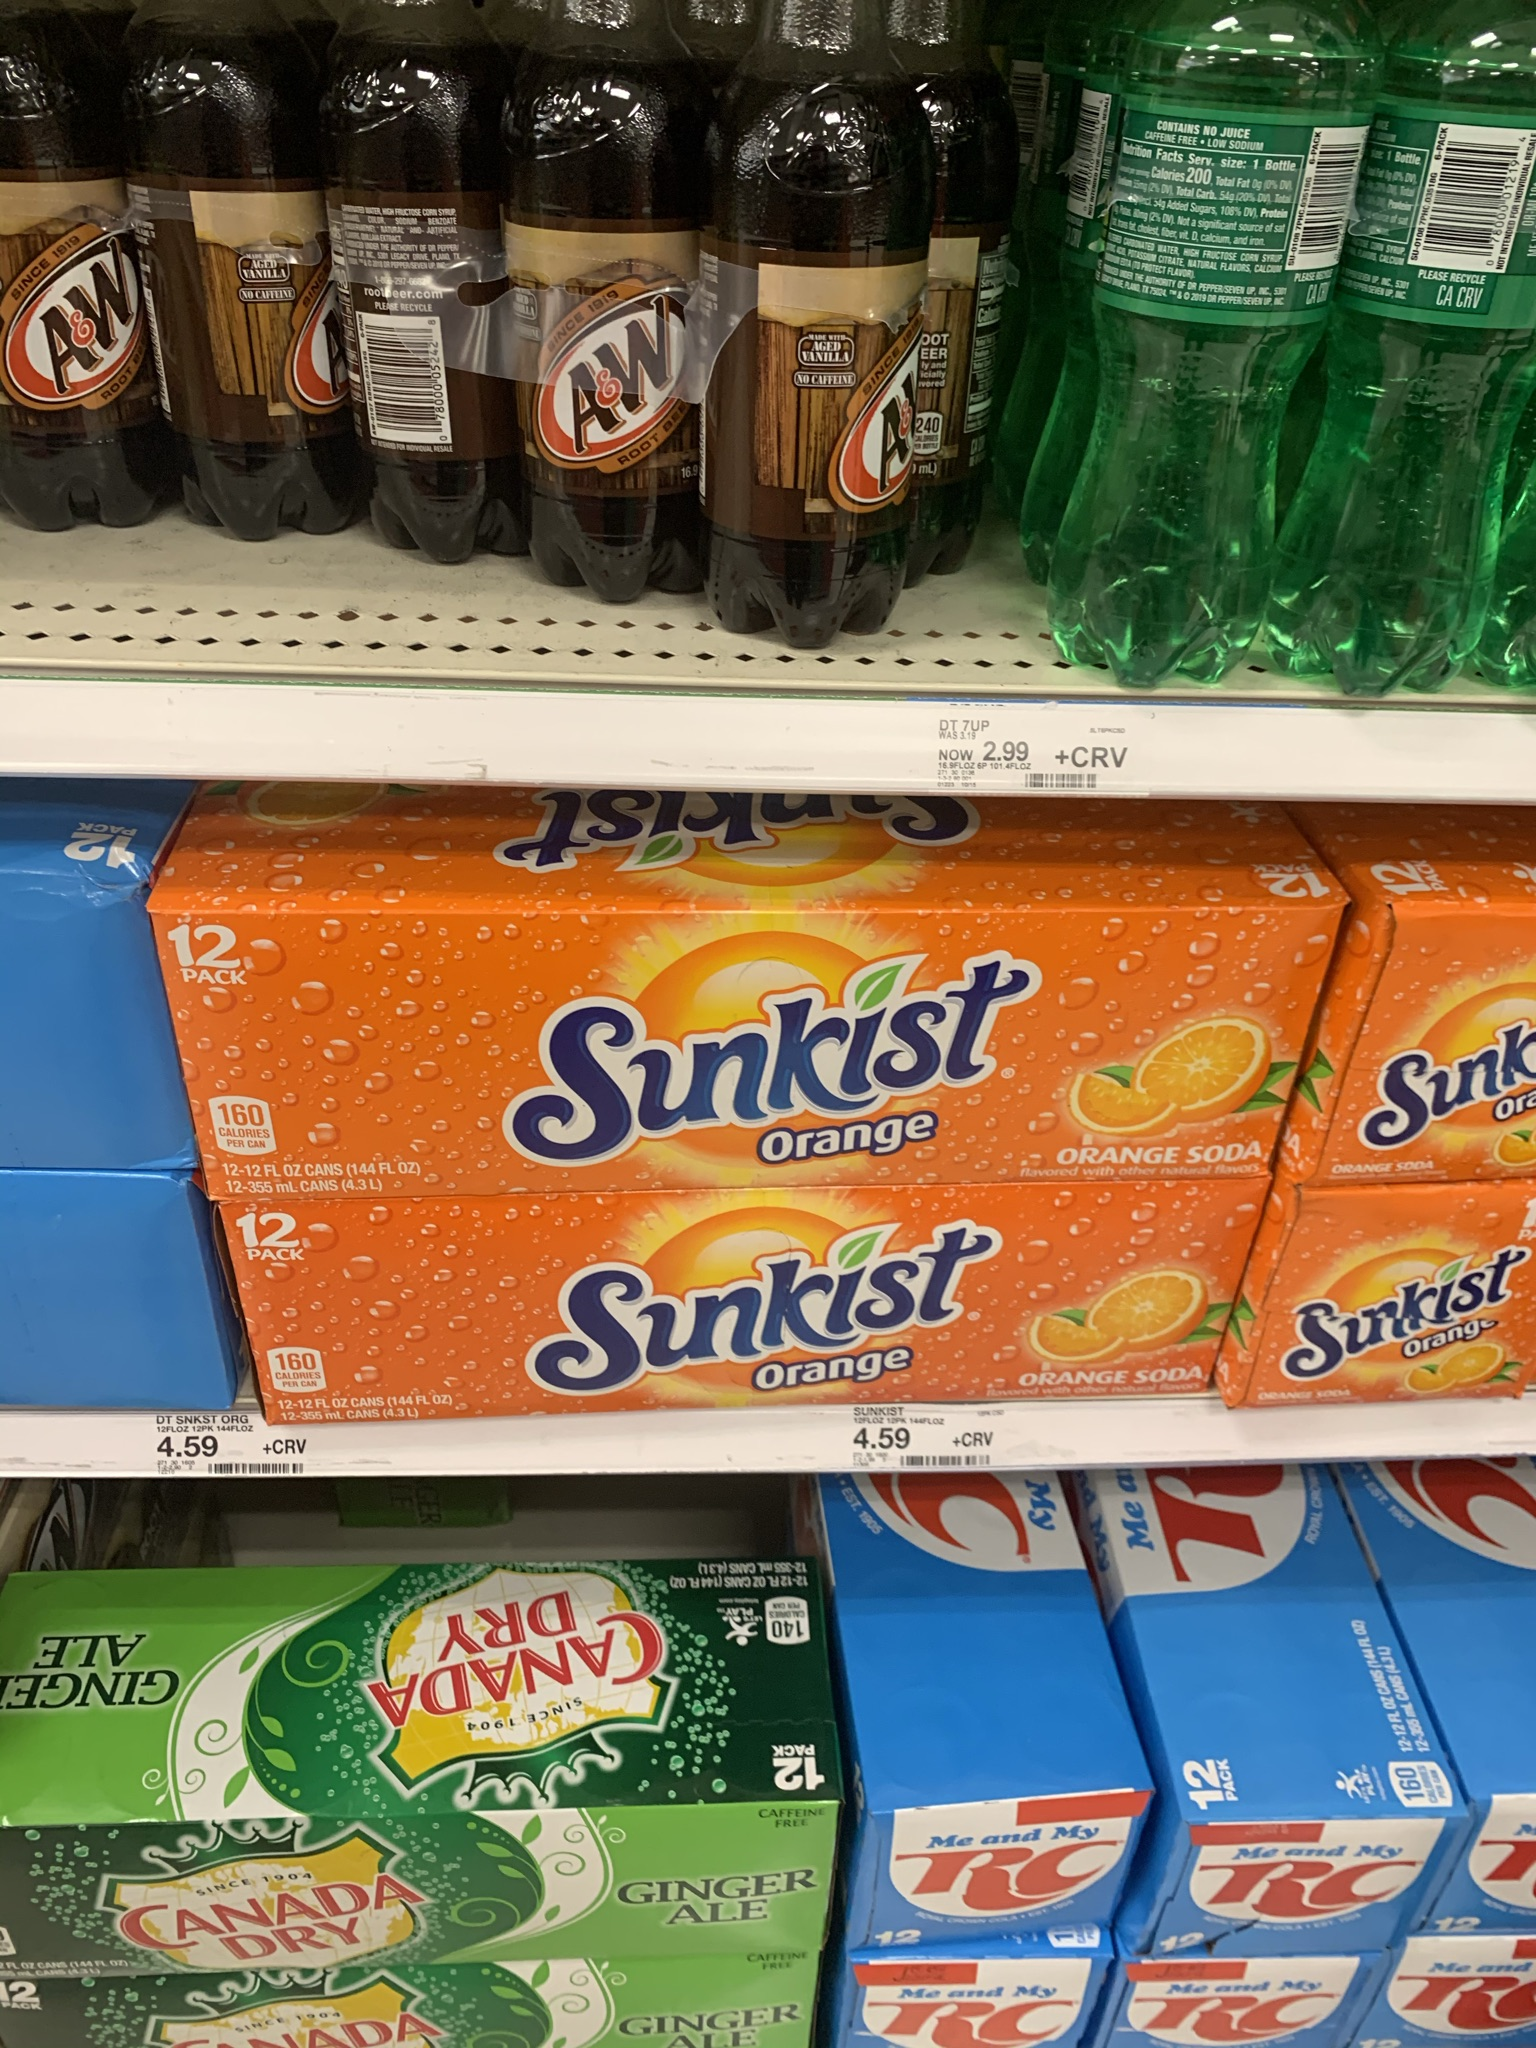AW soda: (19, 15, 939, 584), (1052, 29, 1517, 660)
RC soda: (858, 1480, 1534, 1742), (1170, 1759, 1417, 1950), (892, 1756, 1125, 1954)
canada dry soda: (37, 1574, 794, 1945)
sprite soda: (1008, 3, 1534, 651)
sunkist soda: (194, 869, 1276, 1188), (237, 1214, 1239, 1424)
